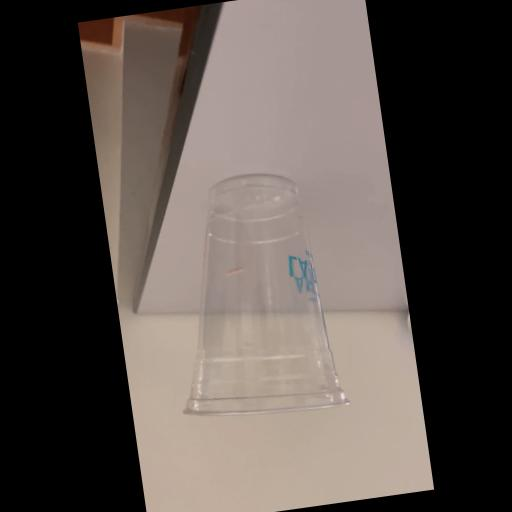lp_plastic_cup: (149, 161, 346, 430)
